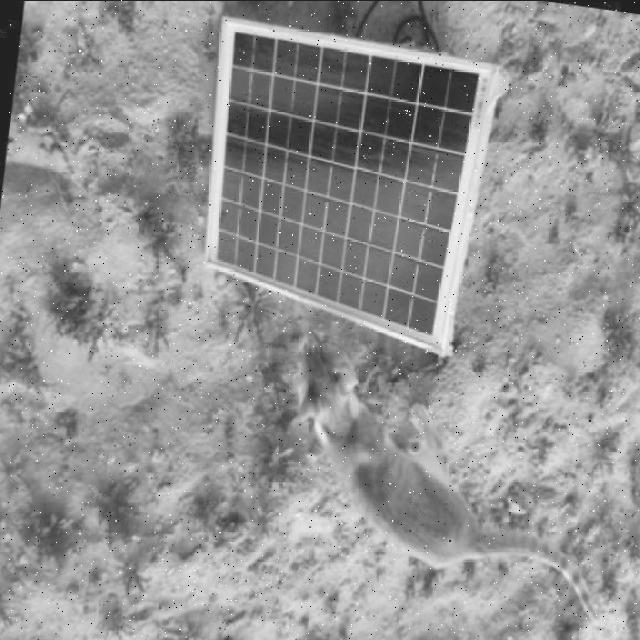Normal Solar Panel: (181, 19, 501, 353)
